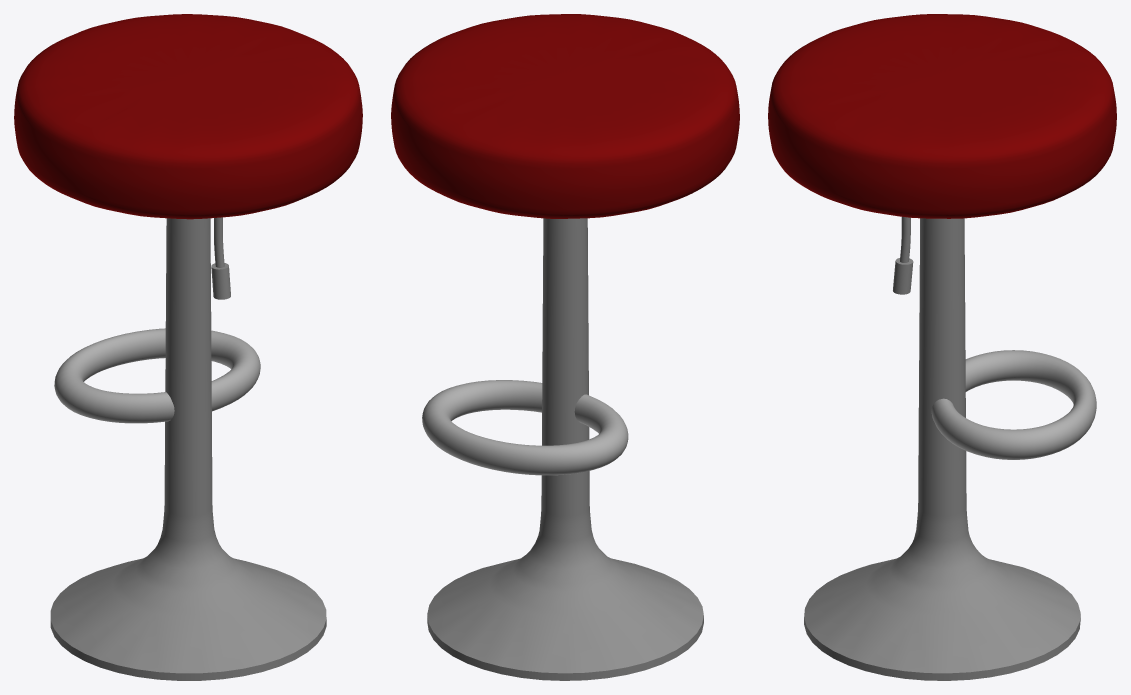
The model's file is Tabouret5_5.fbx.
3 views of the same model, side by side, from view 1: azimuth 30°, elevation 25°; view 2: azimuth 150°, elevation 25°; view 3: azimuth 270°, elevation 25° (orthographic).
Parts seen in each view (by area): view 1: pCylinder231, pCylinder232, pTorus2, pCylinder233; view 2: pCylinder231, pCylinder232, pTorus2; view 3: pCylinder231, pCylinder232, pTorus2, pCylinder233.
Boxes of the visible parts, x1,y1,x2,y2 form: pCylinder231: (14, 14, 362, 219); pCylinder232: (50, 218, 326, 680); pTorus2: (54, 328, 260, 423); pCylinder233: (211, 217, 230, 299); pCylinder231: (391, 14, 739, 218); pCylinder232: (427, 218, 703, 680); pTorus2: (422, 380, 628, 475); pCylinder231: (768, 14, 1116, 218); pCylinder232: (804, 218, 1080, 680); pTorus2: (931, 350, 1096, 459); pCylinder233: (893, 216, 913, 294).
Bounding box in the file's own units: 32.76 × 56.66 × 32.76.
